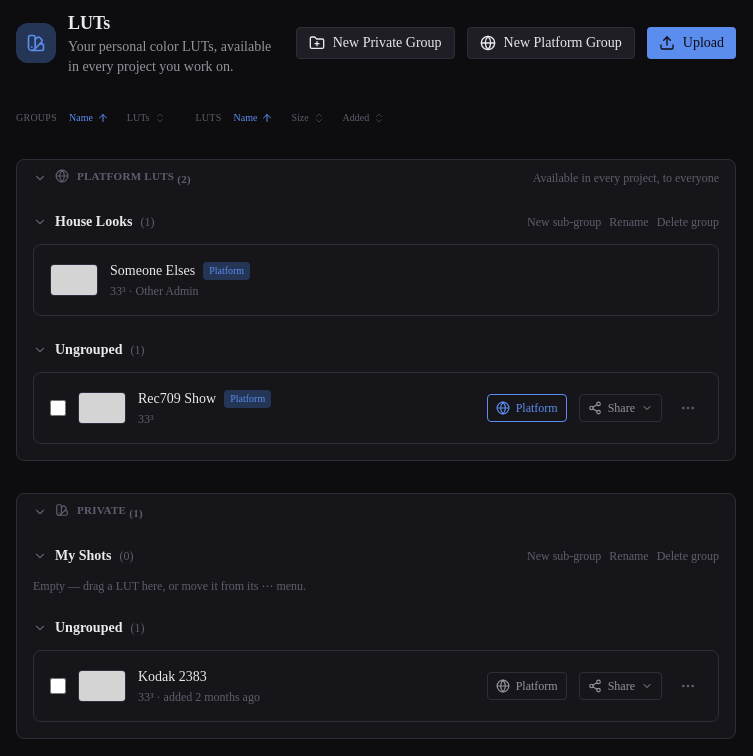
Scenario: filing LUTs into platform groups › offers the ⋯ menu platform groups for a platform LUT, personal for a personal one
Click the button named "More actions for Rec709 Show".
click(688, 408)  # box x1=674 y1=394 x2=702 y2=422
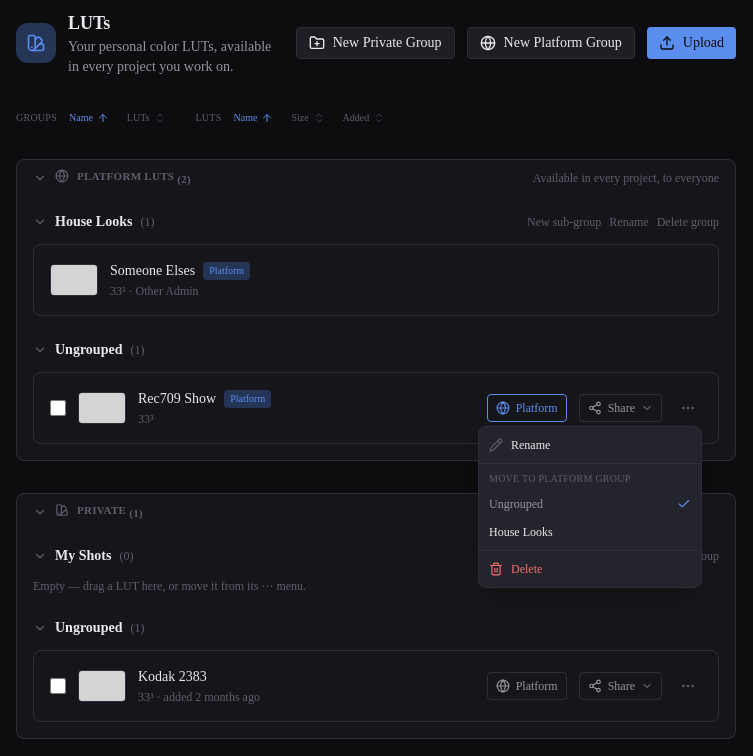
Expected: the text "Move to platform group" is shown, x1=489 y1=473 x2=630 y2=484
Expected: the text "House Looks" below "Move to platform group" is shown, x1=489 y1=525 x2=553 y2=539
Press Escape
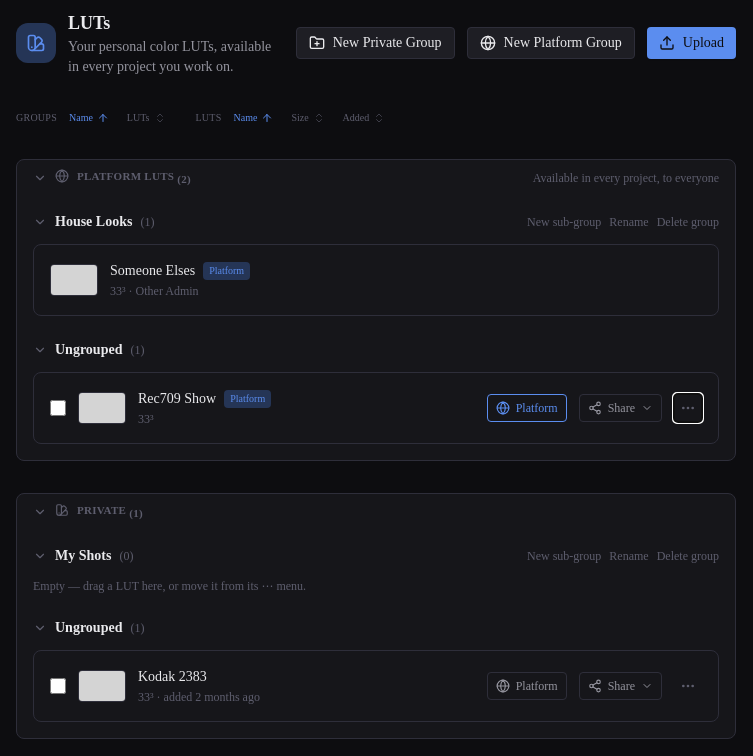
Click the button named "More actions for Kodak 2383".
click(688, 686)  # box x1=674 y1=672 x2=702 y2=700
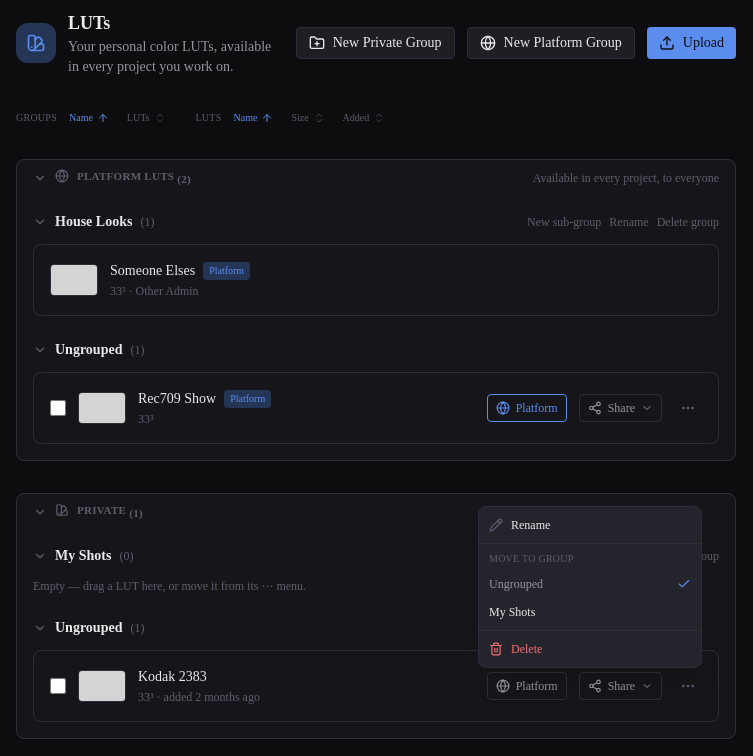
Expected: the text "Move to group" is shown, x1=489 y1=553 x2=574 y2=564
Expected: the text "My Shots" below "Move to group" is shown, x1=489 y1=605 x2=535 y2=619
